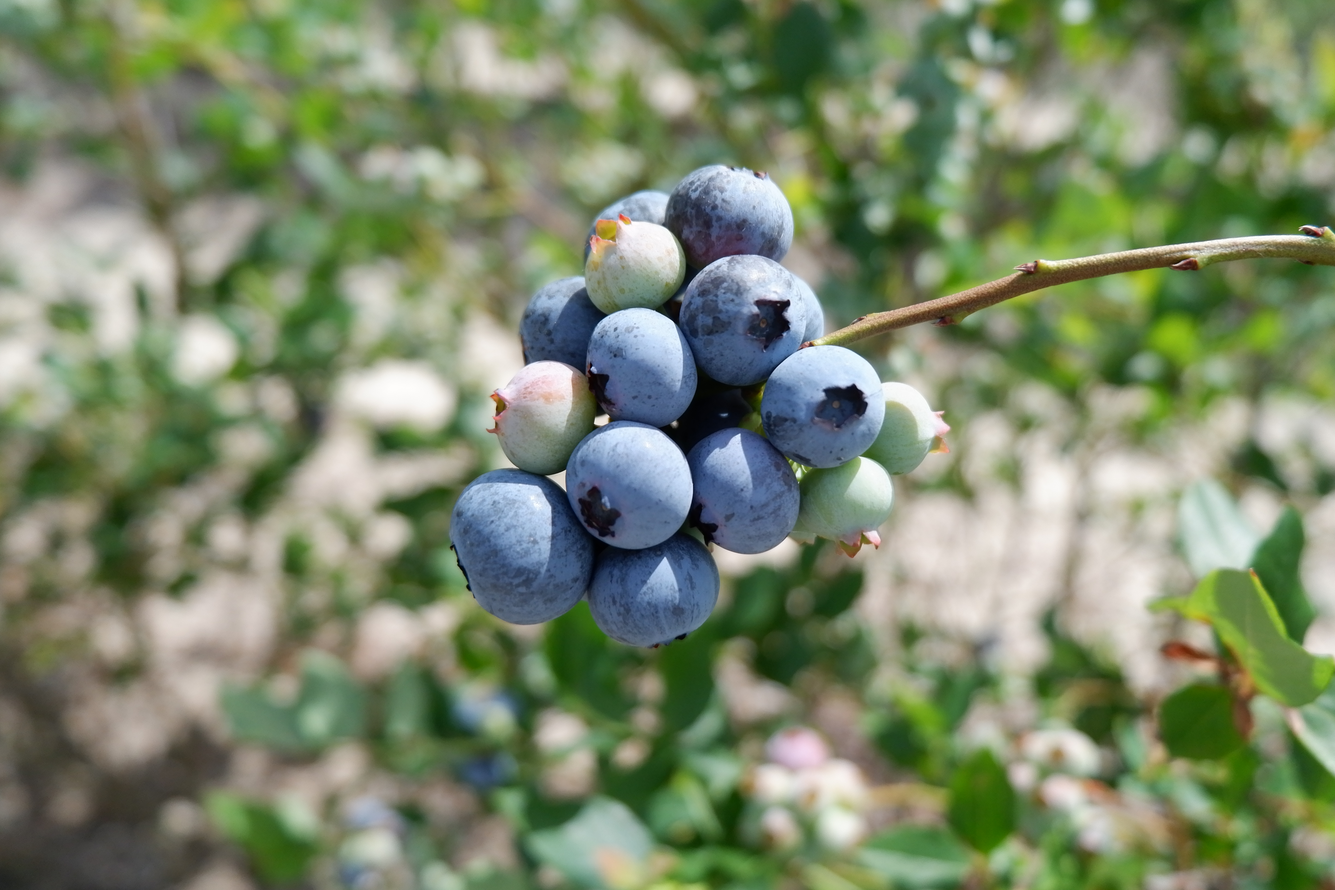Immature: (495, 365, 594, 470), (587, 216, 683, 309), (796, 459, 891, 550), (866, 384, 950, 473), (798, 279, 825, 342)
Mature: (453, 468, 591, 620), (685, 258, 810, 384), (589, 533, 719, 645), (569, 428, 691, 547), (765, 345, 882, 463), (689, 429, 799, 551), (669, 167, 793, 274), (590, 312, 696, 426), (523, 278, 602, 372), (595, 194, 668, 227)
